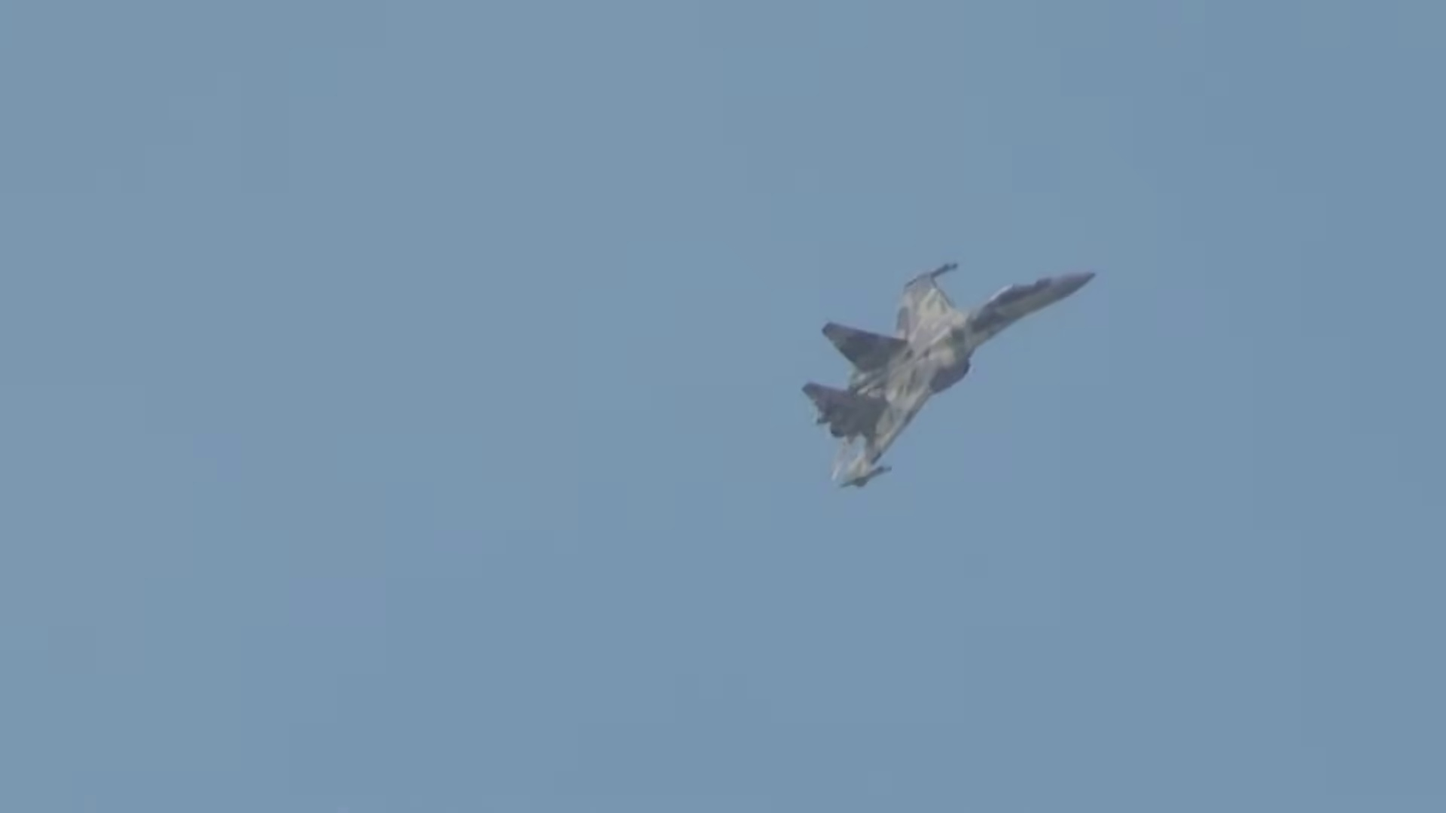Su35: (792, 242, 1111, 506)
